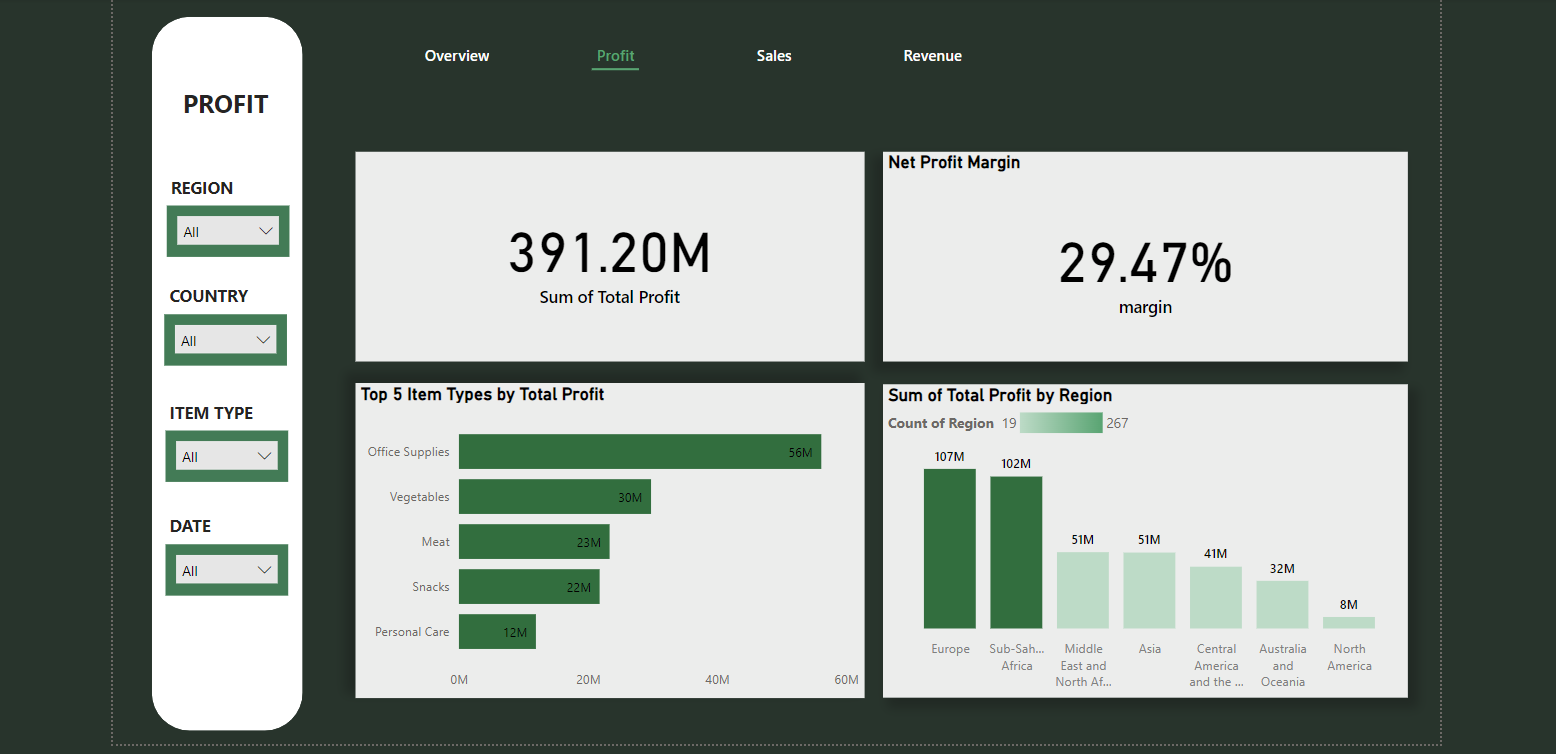

This screenshot's page, from the dashboard's own definition file:
{"tool":"powerbi","page":{"name":"Profit","canvas":[1280,720],"ordinal":1},"visuals":[{"type":"pageNavigator","box":[260.7,38.4,603.8,32.9],"z":0},{"type":"shape","box":[462.4,54.9,45.3,26.1],"z":1000},{"type":"columnChart","title":"Sum of Total Profit by Region","fields":{"Category":["1000 Sales Records.Region"],"Y":["Sum(1000 Sales Records.Total Profit)"]},"box":[742.9,372.7,506.5,302.7],"z":3000},{"type":"barChart","title":"Top 5 Item Types by Total Profit","fields":{"Category":["1000 Sales Records.Item Type"],"Y":["Sum(1000 Sales Records.Total Profit)"]},"box":[234,371.5,490.9,303.9],"z":4000},{"type":"card","fields":{"Values":["Sum(1000 Sales Records.Total Profit)"]},"box":[258.1,148.3,442.6,202.6],"z":5000},{"type":"card","title":"Net Profit Margin","fields":{"Values":["1000 Sales Records.margin"]},"box":[758.6,148.3,465.5,202.6],"z":6000},{"type":"shape","box":[37.4,18.1,145.9,688.6],"z":7000},{"type":"slicer","fields":{"Values":["1000 Sales Records.Region"]},"box":[51.9,200.2,118.2,49.4],"z":8000},{"type":"slicer","fields":{"Values":["1000 Sales Records.Country"]},"box":[49.5,305.6,118,49.4],"z":9000},{"type":"slicer","fields":{"Values":["1000 Sales Records.Item Type"]},"box":[50.9,416.7,118,49.4],"z":10000},{"type":"slicer","fields":{"Values":["Date.Date"]},"box":[50.9,526.5,118,49.4],"z":11000},{"type":"textbox","box":[50.7,166.4,94.1,33.8],"z":12000},{"type":"textbox","box":[49.4,271.4,94.1,33.8],"z":13000},{"type":"textbox","box":[49.4,383.5,117,33.8],"z":14000},{"type":"textbox","box":[49.4,493.3,117,33.8],"z":15000},{"type":"textbox","box":[1.2,80.8,214.7,42.2],"z":15001}]}

Visuals, with their boxes in screenshot pixels (x1, y1, x2, y2):
pageNavigator: 379, 36, 1002, 70
shape: 587, 53, 634, 80
"Sum of Total Profit by Region" columnChart: 876, 381, 1399, 693
"Top 5 Item Types by Total Profit" barChart: 351, 379, 858, 693
card - Sum(1000 Sales Records.Total Profit): 376, 149, 833, 358
"Net Profit Margin" card: 893, 149, 1373, 358
shape: 148, 15, 299, 725
slicer - 1000 Sales Records.Region: 163, 203, 285, 254
slicer - 1000 Sales Records.Country: 161, 311, 282, 362
slicer - 1000 Sales Records.Item Type: 162, 426, 284, 477
slicer - Date.Date: 162, 539, 284, 590
textbox: 162, 168, 259, 203
textbox: 160, 276, 258, 311
textbox: 160, 392, 281, 427
textbox: 160, 505, 281, 540
textbox: 111, 79, 332, 123
